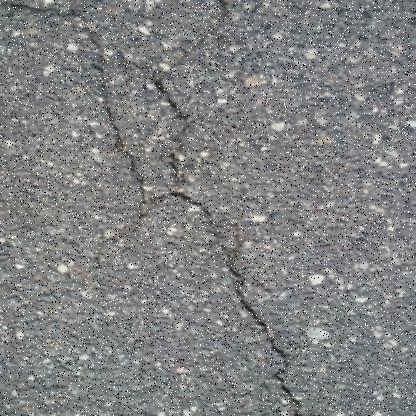Cracks: (0, 0, 195, 198), (164, 187, 313, 415)
